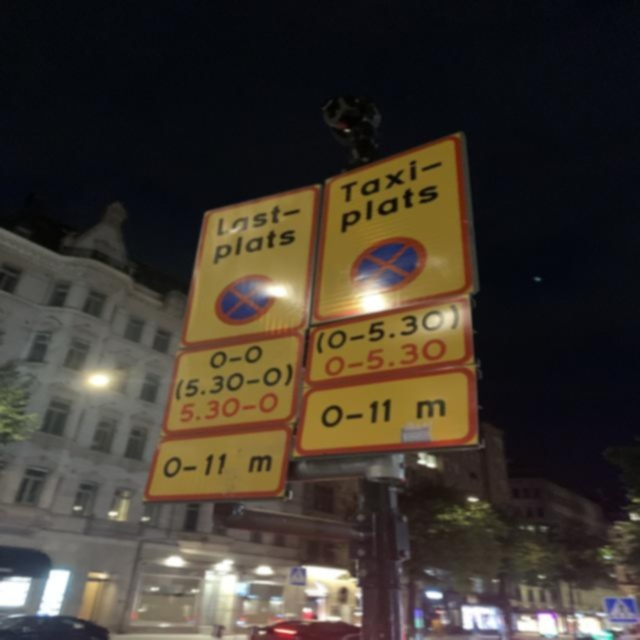lastplats: (175, 182, 324, 349)
